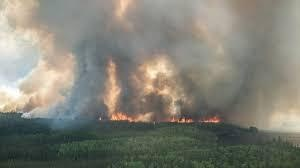fire: (160, 111, 224, 125)
